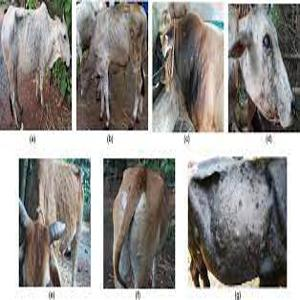lumpy skin diesease: (187, 156, 286, 288), (152, 2, 224, 132), (0, 1, 71, 129), (228, 3, 296, 131), (18, 159, 83, 286), (111, 164, 174, 288), (86, 2, 147, 129)
